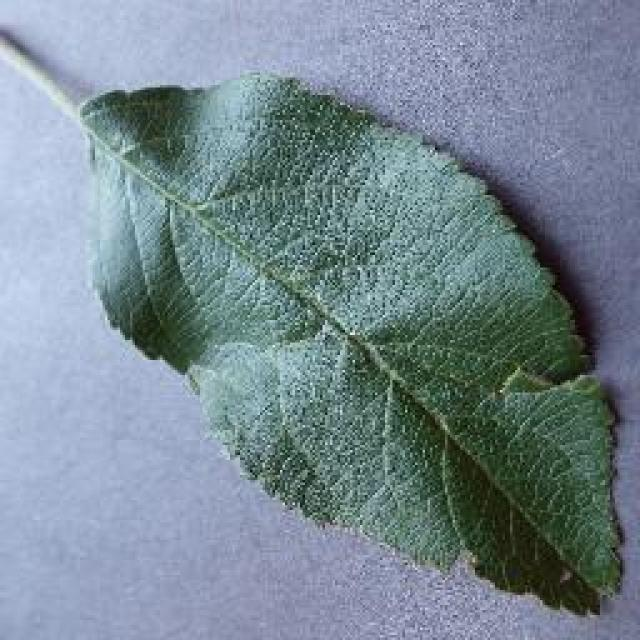apple healthy: (0, 18, 628, 618)
